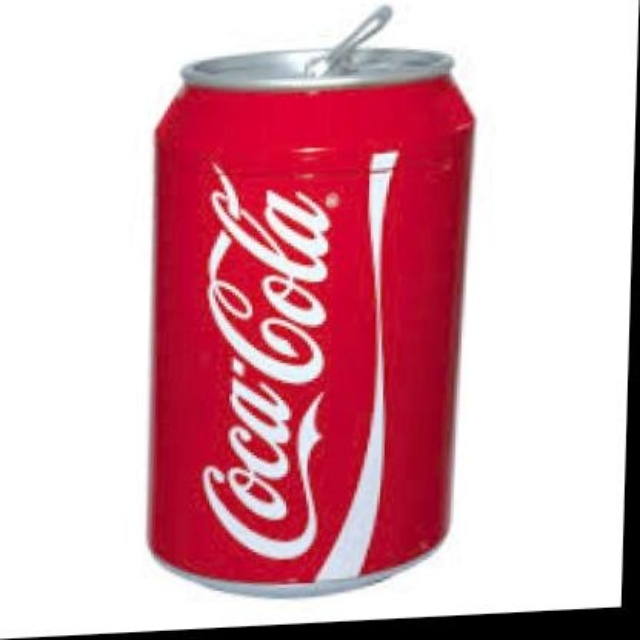trash: (149, 48, 472, 592)
